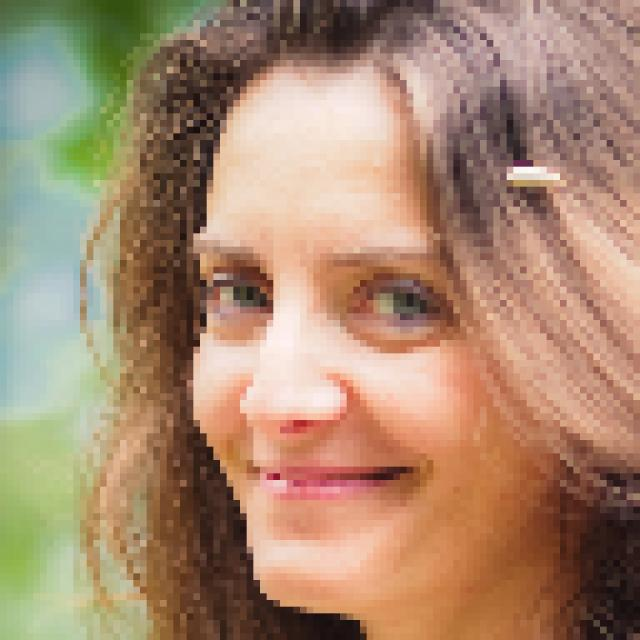happy: (192, 90, 596, 637)
